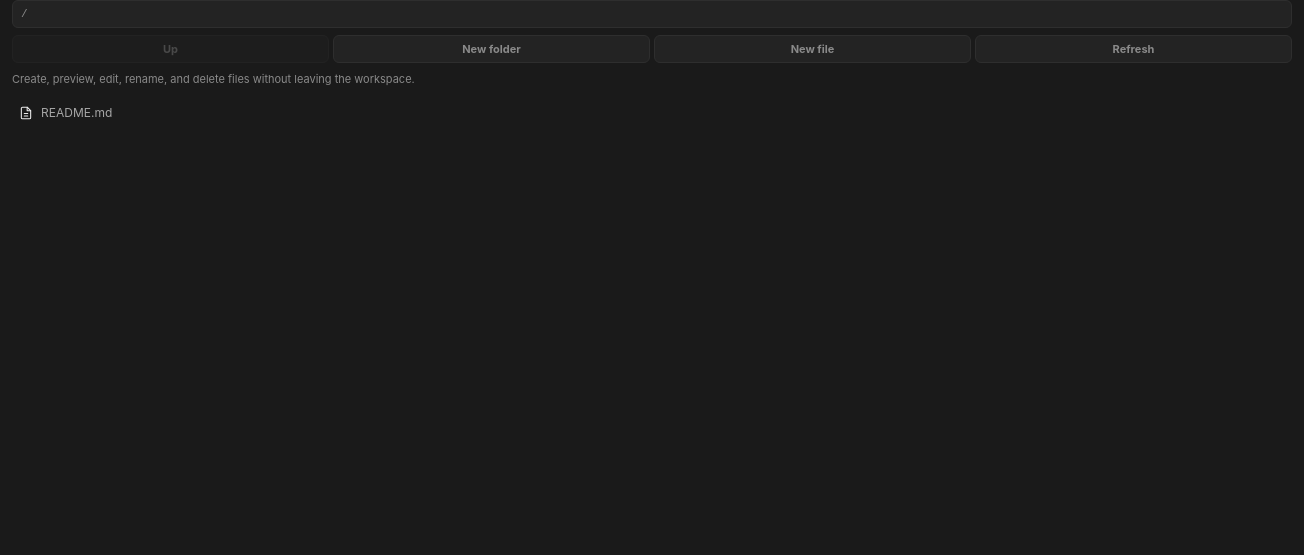
Test: WorkspaceFilePanel file lifecycle › previews a file, tracks dirty content, cancels, and restores edit focus
Click the button "README.md".
click(77, 112)  # box top-left (12, 96), bottom-right (1292, 130)
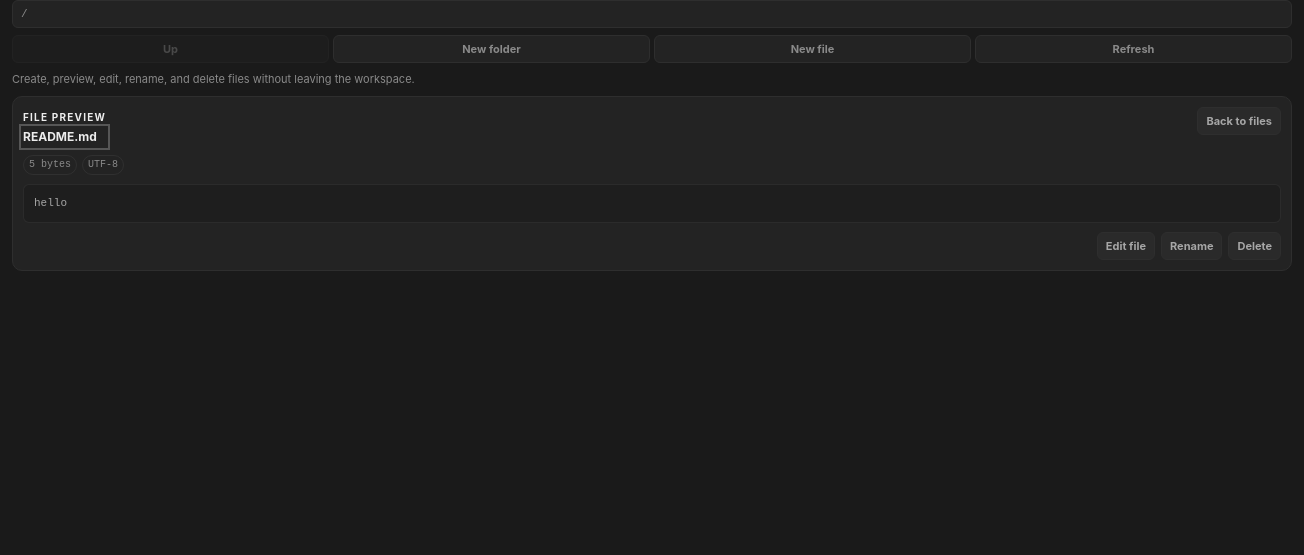
Expected: the text "hello" is shown, top-left (23, 184), bottom-right (1281, 223)
Click the button "Edit file".
click(1126, 246)  # box top-left (1097, 232), bottom-right (1155, 260)
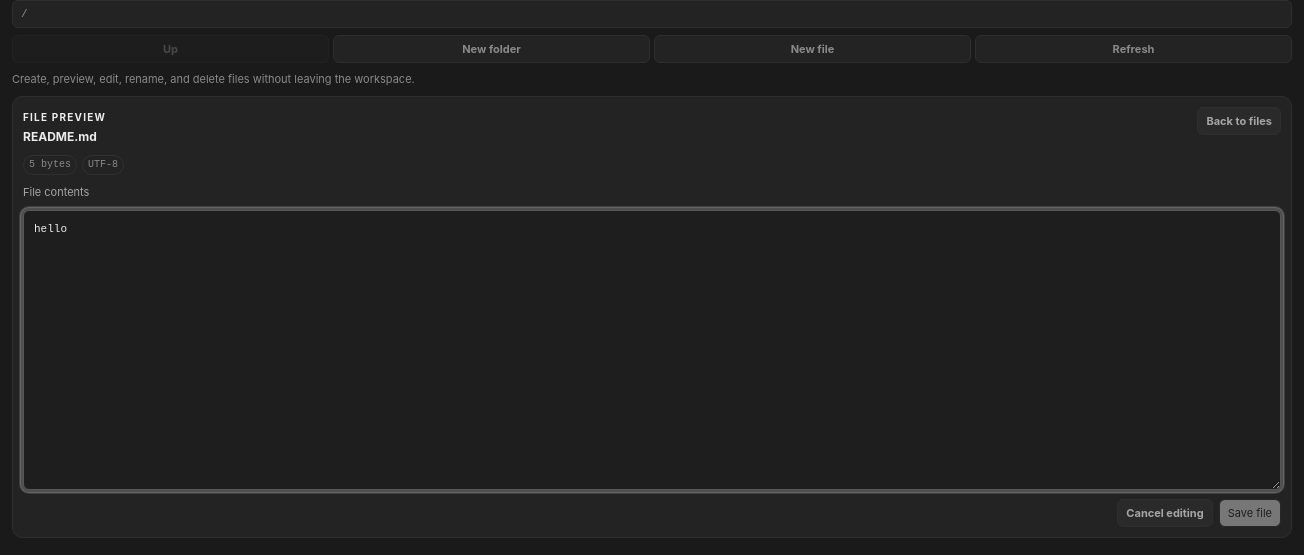
Type " world" into the text box labelled "File contents".
click(652, 350); type(" world")  # box top-left (23, 210), bottom-right (1281, 490)
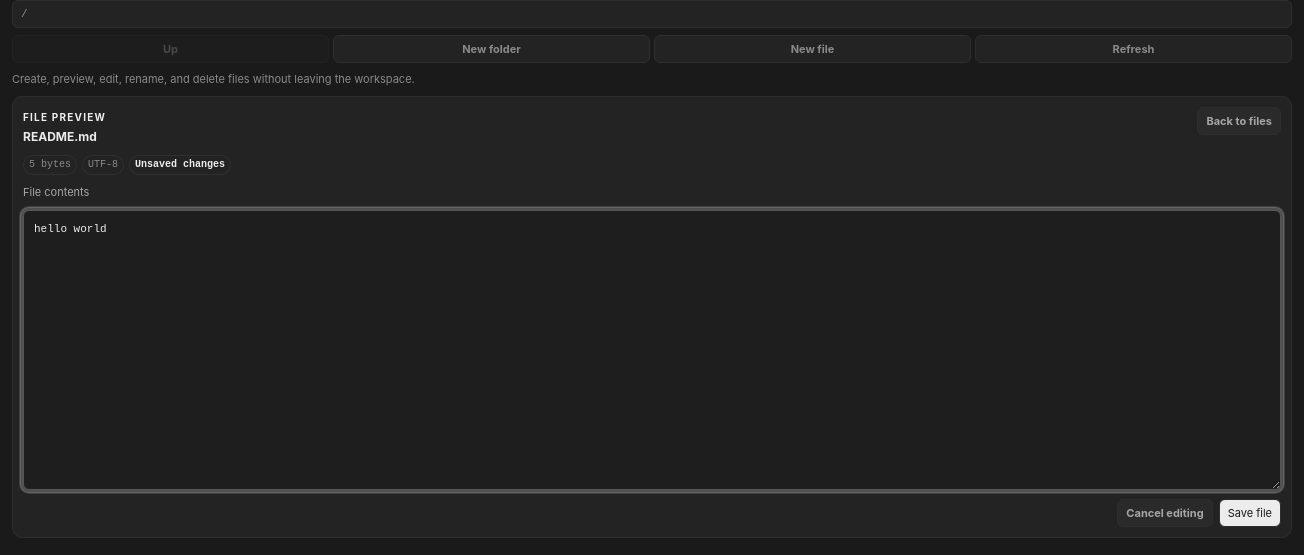
Expected: the text "Unsaved changes" is shown, top-left (129, 155), bottom-right (231, 175)
Click the button "Cancel editing".
click(1165, 513)  # box top-left (1117, 499), bottom-right (1213, 527)
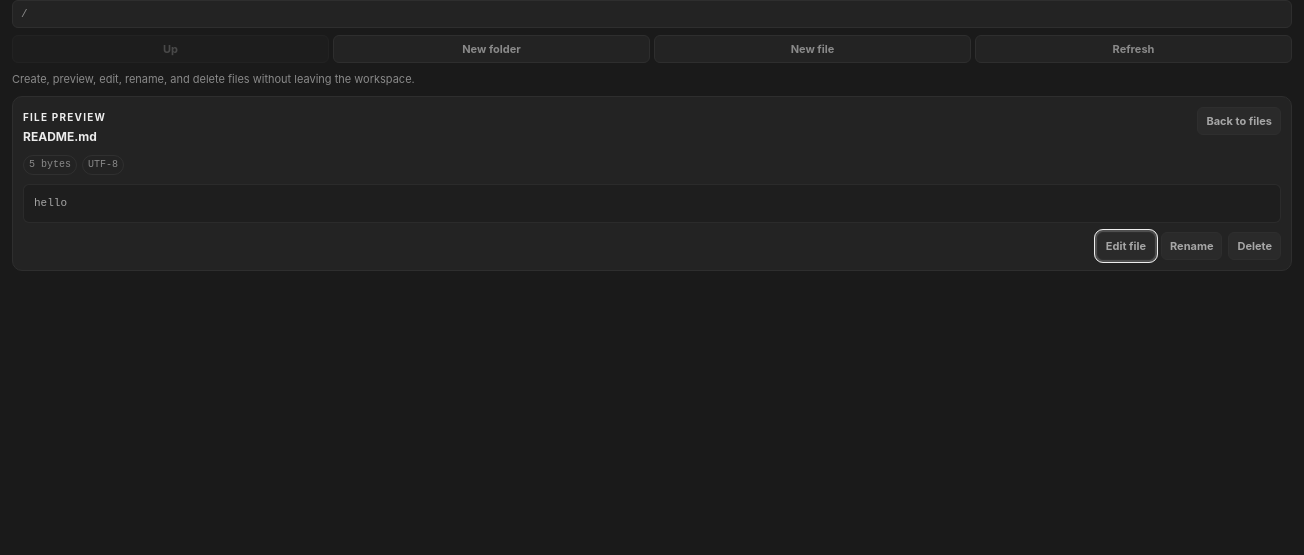
Expected: the text "Unsaved changes" is gone
Expected: the text "hello" is shown, top-left (23, 184), bottom-right (1281, 223)
